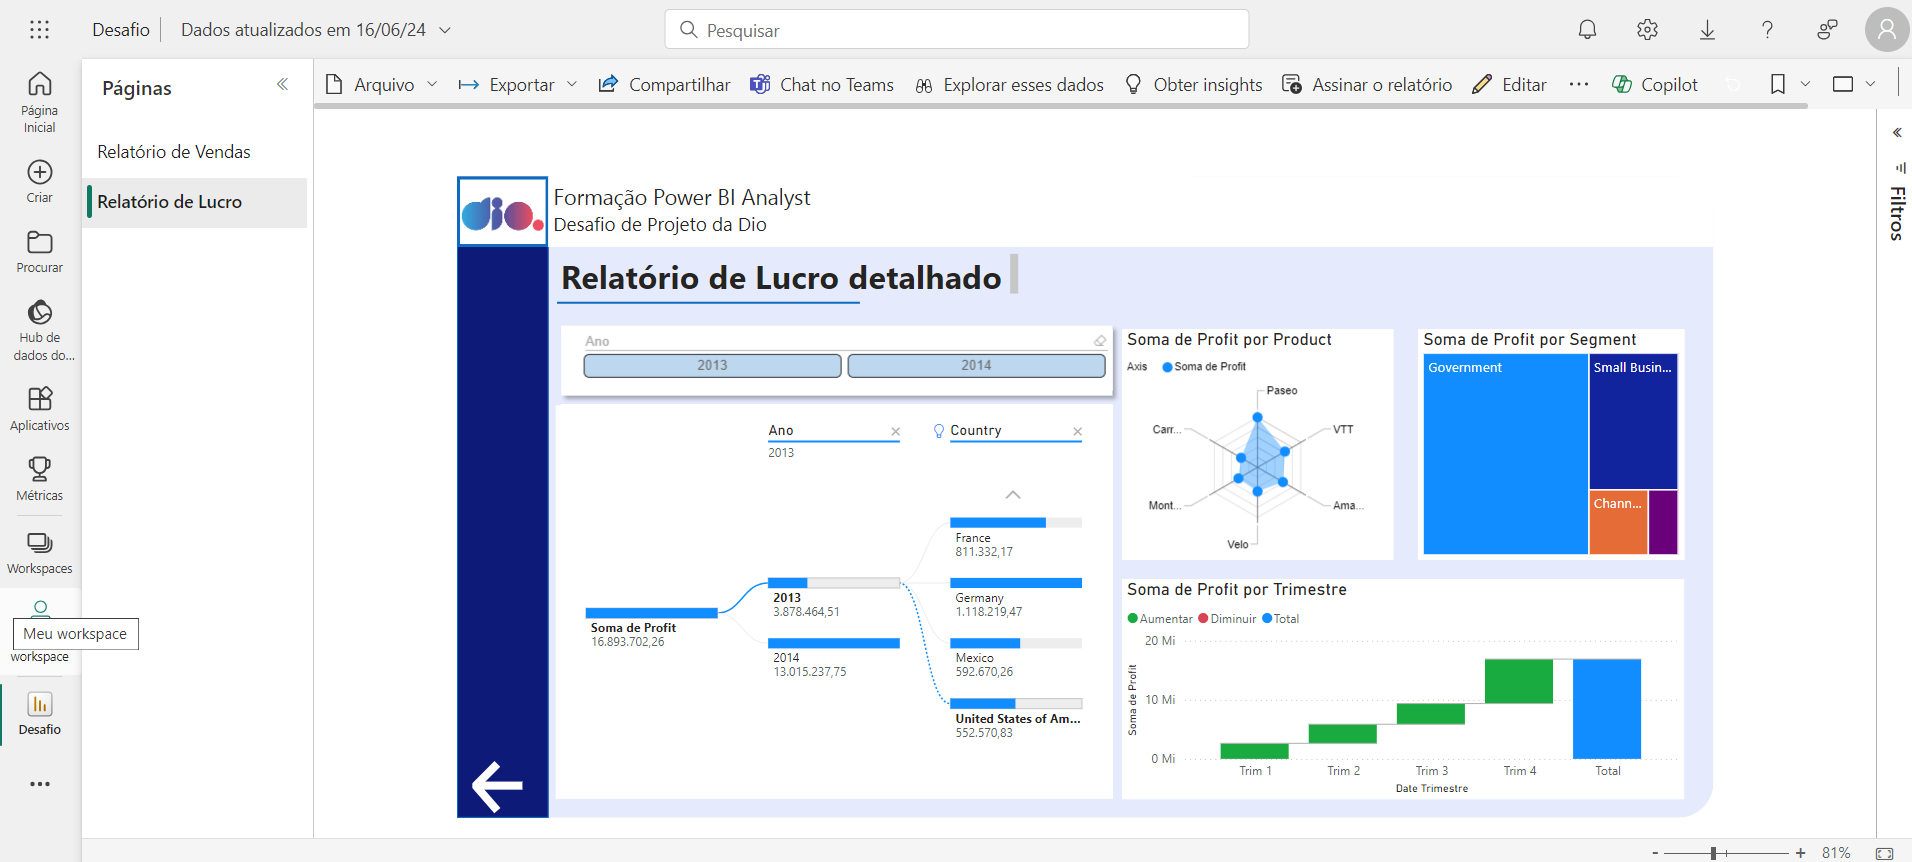

What the dashboard file says about the page in this screenshot:
{"tool":"powerbi","page":{"name":"Relatório de Lucro","canvas":[1280,720],"ordinal":1},"visuals":[{"type":"shape","box":[9.8,67.3,1241.2,633.4],"z":0},{"type":"shape","box":[9.8,67.3,90.5,633.4],"z":1000},{"type":"shape","box":[9.8,67.3,90.5,69.7],"z":2000},{"type":"shape","box":[100.3,67.3,1150.7,69.7],"z":3000},{"type":"textbox","box":[100.3,67.3,634.7,69.7],"z":4000},{"type":"shape","box":[108.5,153,299.1,76.5],"z":5000},{"type":"textbox","box":[108,137.8,461.8,50.9],"z":6000},{"type":"shape","box":[104.3,204.8,562.3,86.9],"z":7000},{"type":"shape","box":[113,291.7,544.9,388.5],"z":8000},{"type":"shape","box":[666.6,217.2,268.1,228.4],"z":9000},{"type":"shape","box":[666.6,464.2,554.9,216],"z":10000},{"type":"image","title":"logo dio","box":[9.8,61.1,90.5,84.4],"z":11000},{"type":"actionButton","box":[1156.2,141.9,65.4,57],"z":12000},{"type":"actionButton","box":[21.1,639.3,86.9,60.8],"z":13000},{"type":"shape","box":[959.5,217.2,263.2,228.4],"z":16000},{"type":"treemap","fields":{"Group":["financials.Segment"],"Values":["Sum(financials.Profit)"]},"box":[959.5,217.2,261.9,228.4],"z":17000},{"type":"waterfallChart","fields":{"Category":["financials.Date.Variation.Hierarquia de datas.Trimestre"],"Y":["Sum(financials.Profit)"]},"box":[666.4,464.7,555.2,217.7],"z":18000},{"type":"RadarChart1446119667547","fields":{"Category":["financials.Product"],"Y":["Sum(financials.Profit)"]},"box":[666.6,217.2,268.1,228.4],"z":19000},{"type":"decompositionTreeVisual","fields":{"Analyze":["Sum(financials.Profit)"],"ExplainBy":["financials.Date.Variation.Hierarquia de datas.Ano","financials.Country"]},"box":[107.6,292.3,550.3,388.9],"z":19001},{"type":"ChicletSlicer1448559807354","fields":{"Category":["financials.Date.Variation.Hierarquia de datas.Ano"]},"box":[127.2,217.7,530.7,61.1],"z":19002}]}

Visuals, with their boxes on the page's 1280x720 design canvas (x1, y1, x2, y2). These are canvas units, not pixel positions in the 1912x862 screenshot, which may show the page scaled, cropped or inside an application window:
shape: left=10, top=67, right=1251, bottom=701
shape: left=10, top=67, right=100, bottom=701
shape: left=10, top=67, right=100, bottom=137
shape: left=100, top=67, right=1251, bottom=137
textbox: left=100, top=67, right=735, bottom=137
shape: left=108, top=153, right=408, bottom=230
textbox: left=108, top=138, right=570, bottom=189
shape: left=104, top=205, right=667, bottom=292
shape: left=113, top=292, right=658, bottom=680
shape: left=667, top=217, right=935, bottom=446
shape: left=667, top=464, right=1222, bottom=680
"logo dio" image: left=10, top=61, right=100, bottom=146
actionButton: left=1156, top=142, right=1222, bottom=199
actionButton: left=21, top=639, right=108, bottom=700
shape: left=960, top=217, right=1223, bottom=446
treemap - financials.Segment x Sum(financials.Profit): left=960, top=217, right=1221, bottom=446
waterfallChart - financials.Date.Variation.Hierarquia de datas.Trimestre x Sum(financials.Profit): left=666, top=465, right=1222, bottom=682
RadarChart1446119667547 - financials.Product x Sum(financials.Profit): left=667, top=217, right=935, bottom=446
decompositionTreeVisual - Sum(financials.Profit) x financials.Date.Variation.Hierarquia de datas.Ano: left=108, top=292, right=658, bottom=681
ChicletSlicer1448559807354 - financials.Date.Variation.Hierarquia de datas.Ano: left=127, top=218, right=658, bottom=279
